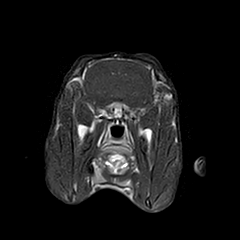Brain: (70, 25, 169, 123)
